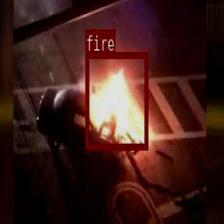fire: (85, 52, 147, 148)
